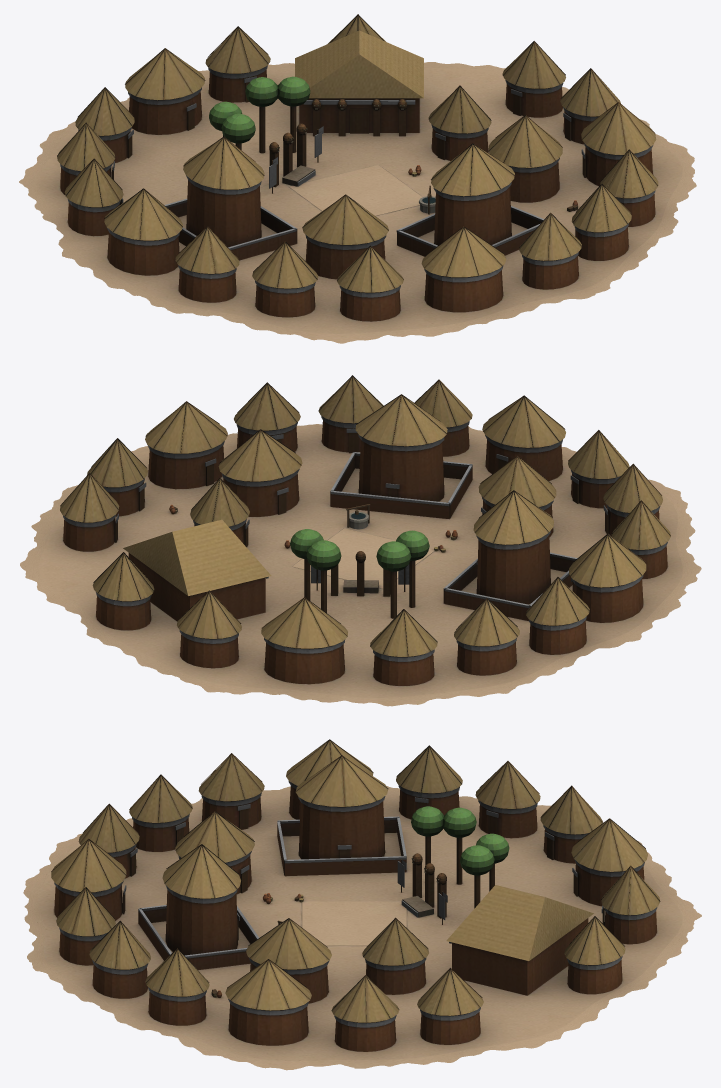
File: bronze-town-big-a-westafrica-1ddb355f.glb
3 renders of one model, top to bottom at view 1: azimuth 30°, elevation 25°; view 2: azimuth 150°, elevation 25°; view 3: azimuth 270°, elevation 25°, orthographic.
Visible parts, largest first — view 1: LOD0; view 2: LOD0; view 3: LOD0.
Boxes of the visible parts, bbox=[...] form: LOD0: bbox=[19, 14, 696, 343]; LOD0: bbox=[20, 375, 701, 706]; LOD0: bbox=[23, 739, 701, 1070].
Size of what is drawn, in the model's own units: 7.91 by 1.28 by 7.96.
3 materials, 3 textured.
